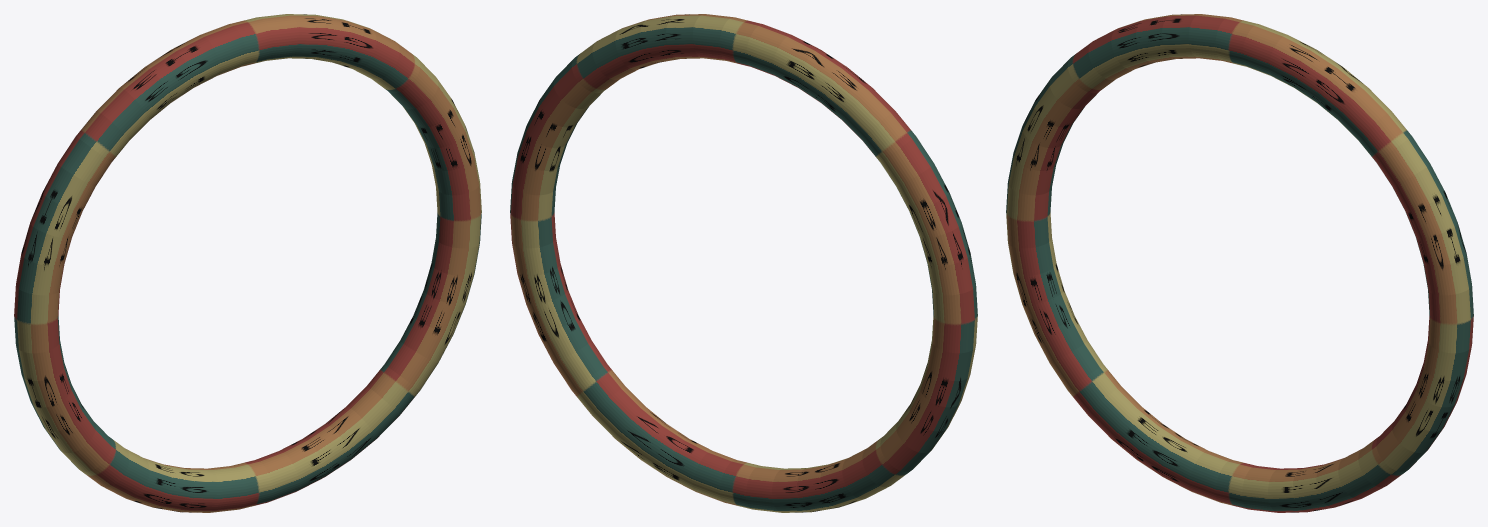
File: texture_torus_R18_r0.glb
3 views of the same model, side by side, from view 1: azimuth 30°, elevation 25°; view 2: azimuth 150°, elevation 25°; view 3: azimuth 330°, elevation 25° (orthographic).
Visible parts, largest first — view 1: world; view 2: world; view 3: world.
Boxes of the visible parts, bbox=[...] form: world: bbox=[14, 14, 481, 512]; world: bbox=[510, 14, 977, 512]; world: bbox=[1006, 14, 1473, 512].
Bounding box in the file's own units: 24 × 23.95 × 2.
1 material, 1 textured.
